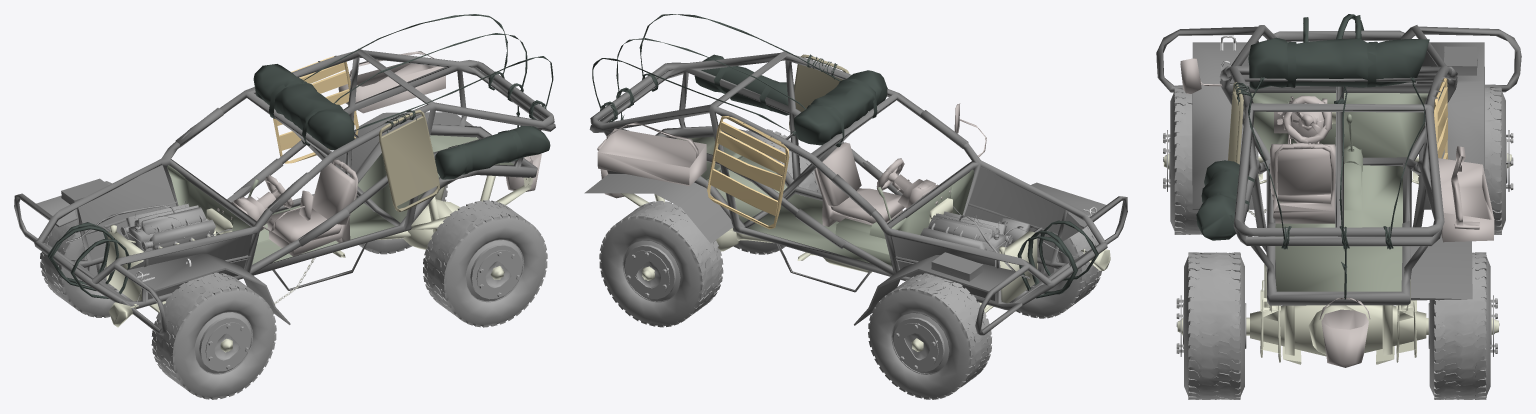
Rendered from buggy.glb.
The picture shows the model from 3 angles, left to right: view 1: azimuth 30°, elevation 25°; view 2: azimuth 150°, elevation 25°; view 3: azimuth 270°, elevation 25°; orthographic projection. The views are drawn at different scales.
Visible parts, largest first — view 1: body_high, Circle.017, Circle.020, Circle.033, BodyF1_low.002, staing_low.001, p_low, NurbsPath.008, Plane.018, Plane.001, Circle.016, Plane.009 (+2 smaller); view 2: body_high, BodyF1_low.002, Circle.016, Circle.018, staing_low.001, Circle.033, p_low, Plane.009, Plane.001, Circle.020, Plane.018, NurbsPath.008 (+2 smaller); view 3: body_high, p_low, staing_low.001, BodyF1_low.002, Circle.033, Circle.017, Circle.018, Plane.018, Circle.020, Circle.016, Plane.009, NurbsPath.008 (+1 smaller).
Boxes of the visible parts, left/top/right/bottom form: body_high: left=14, top=48, right=555, bottom=335; Circle.017: left=423, top=200, right=547, bottom=327; Circle.020: left=151, top=272, right=276, bottom=399; Circle.033: left=47, top=14, right=553, bottom=298; BodyF1_low.002: left=36, top=112, right=473, bottom=324; staing_low.001: left=217, top=51, right=541, bottom=256; p_low: left=167, top=135, right=513, bottom=264; NurbsPath.008: left=379, top=110, right=439, bottom=211; Plane.018: left=106, top=137, right=533, bottom=301; Plane.001: left=66, top=201, right=232, bottom=303; Circle.016: left=40, top=219, right=132, bottom=317; Plane.009: left=273, top=56, right=358, bottom=163; body_high: left=589, top=51, right=1127, bottom=335; BodyF1_low.002: left=584, top=167, right=1106, bottom=325; Circle.016: left=868, top=273, right=991, bottom=399; Circle.018: left=599, top=201, right=723, bottom=327; staing_low.001: left=597, top=103, right=986, bottom=226; Circle.033: left=592, top=14, right=1098, bottom=298; p_low: left=676, top=136, right=974, bottom=266; Plane.009: left=707, top=116, right=789, bottom=229; Plane.001: left=920, top=206, right=1076, bottom=278; Circle.020: left=1009, top=226, right=1101, bottom=318; Plane.018: left=620, top=193, right=1037, bottom=303; NurbsPath.008: left=789, top=54, right=849, bottom=129; body_high: left=1156, top=25, right=1521, bottom=305; p_low: left=1243, top=93, right=1441, bottom=291; staing_low.001: left=1180, top=58, right=1494, bottom=367; BodyF1_low.002: left=1192, top=36, right=1484, bottom=300; Circle.033: left=1196, top=14, right=1429, bottom=299; Circle.017: left=1176, top=252, right=1246, bottom=399; Circle.018: left=1428, top=252, right=1497, bottom=399; Plane.018: left=1250, top=123, right=1426, bottom=364; Circle.020: left=1163, top=87, right=1202, bottom=234; Circle.016: left=1485, top=87, right=1513, bottom=234; Plane.009: left=1434, top=78, right=1447, bottom=159; NurbsPath.008: left=1228, top=82, right=1243, bottom=164.
Size of what is drawn, in the model's own units: 4.36 by 2 by 2.31.
